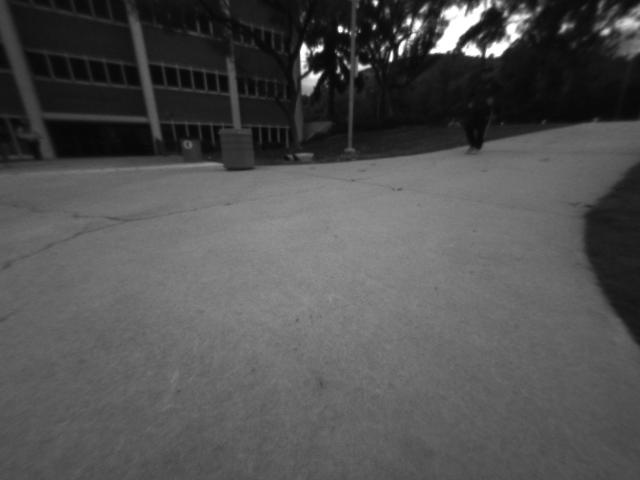trashcan: (216, 129, 258, 176), (180, 136, 205, 166)
